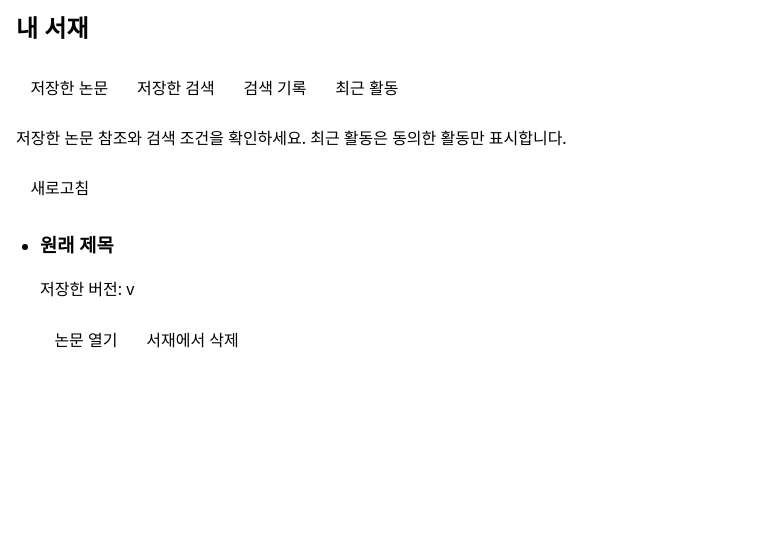
Test: U2 Library controls › does not delete until confirmation and preserves the observed revision
Click the button with test id "library-remove": coordinates (192, 340) [132,318,253,362]
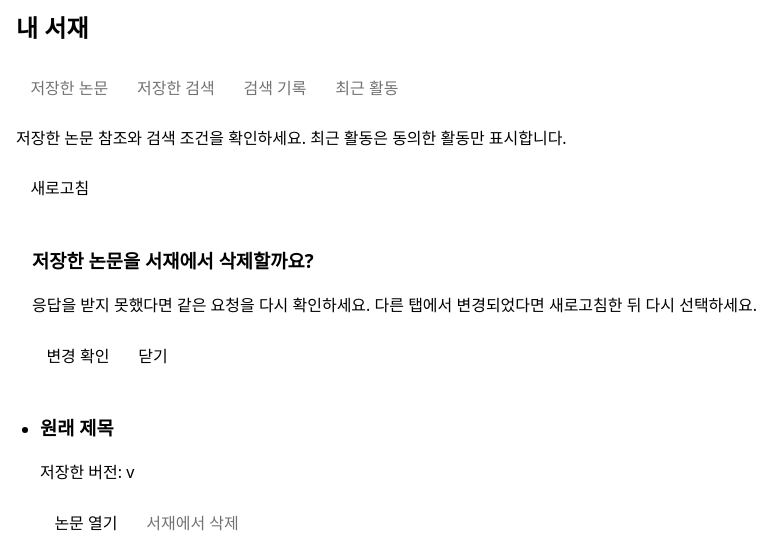
Click the button with test id "library-confirm": coordinates (78, 356) [32,334,124,378]
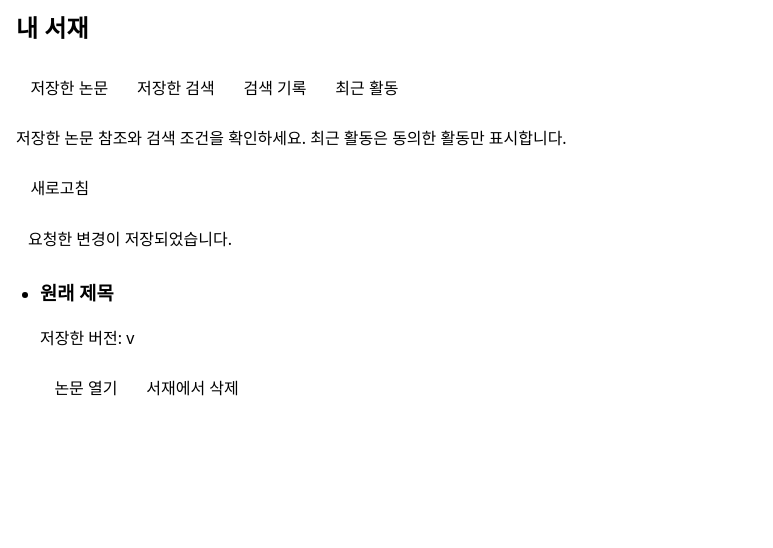
Expected: the text "요청한 변경이 저장되었습니다." is shown, [28,228,232,250]
